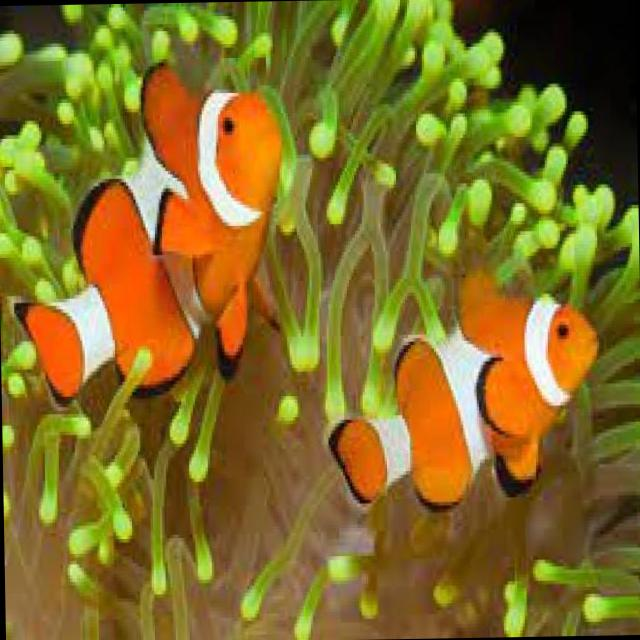ClownFish: (10, 57, 288, 410), (326, 268, 600, 513)
